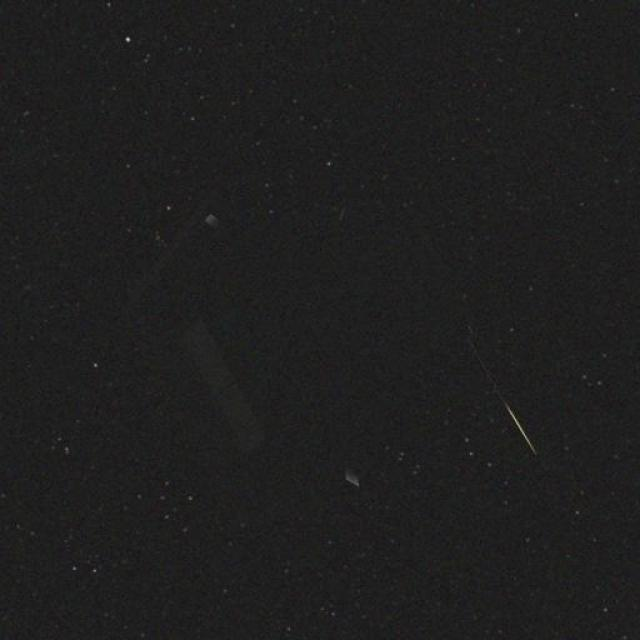debris: (110, 298, 526, 514)
